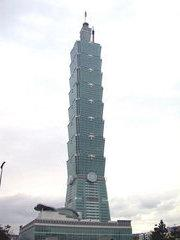building: (65, 10, 111, 222), (21, 204, 132, 240)
